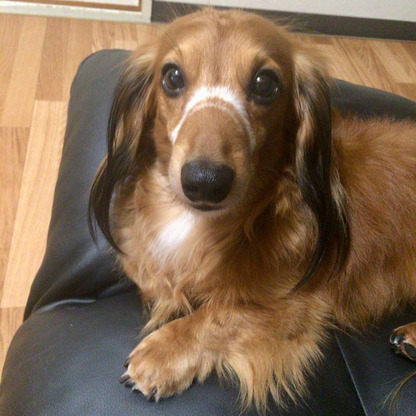dachshund: (102, 23, 389, 389)
